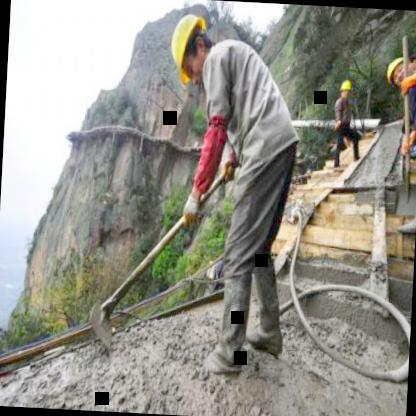helmet: (168, 12, 214, 86), (383, 53, 411, 90), (338, 75, 354, 99)
